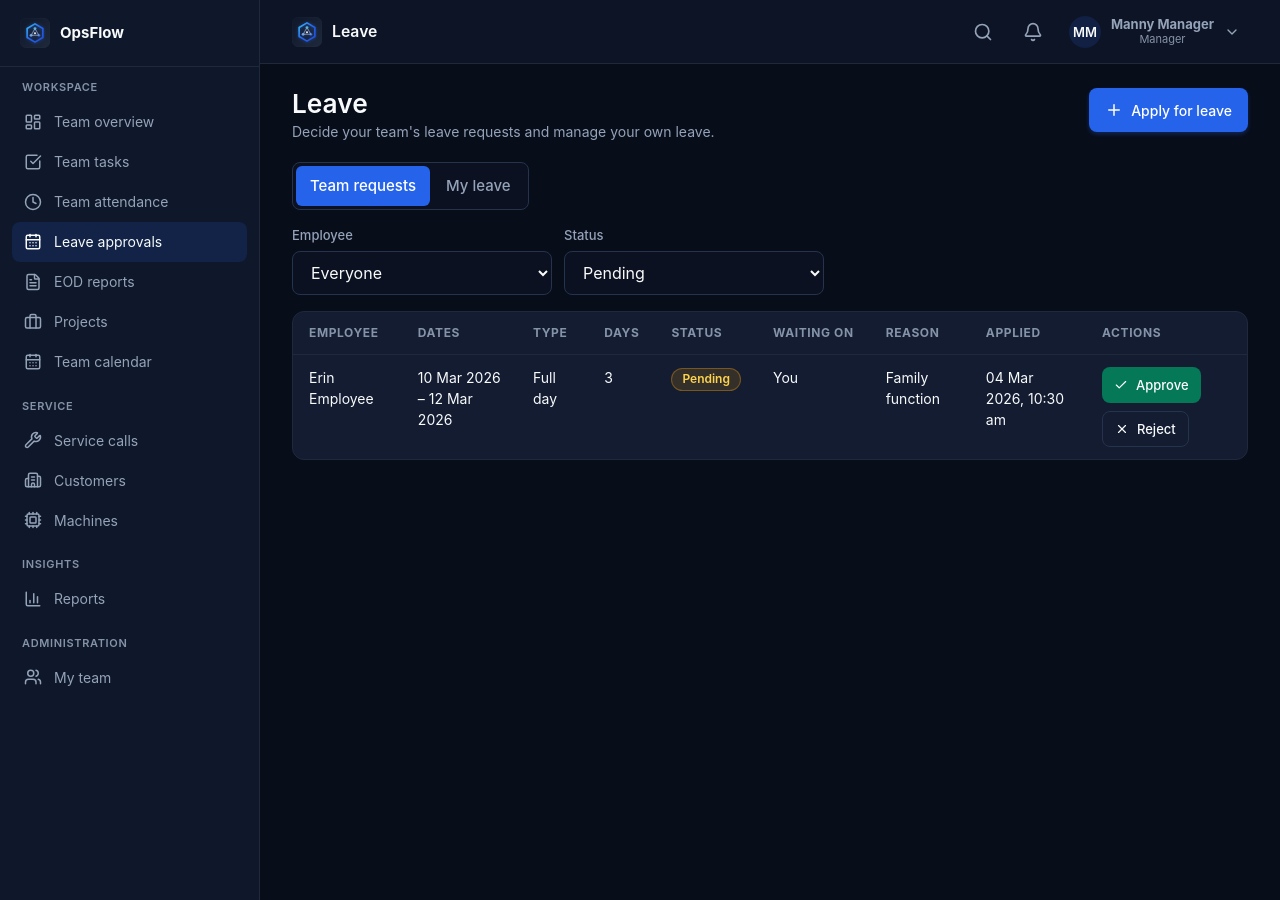
Test case: Leave for a manager › shows the server's refusal inside the dialog
Click the button with aria-label "Approve leave for Erin Employee" at (1151, 385), box x1=1102 y1=367 x2=1200 y2=403
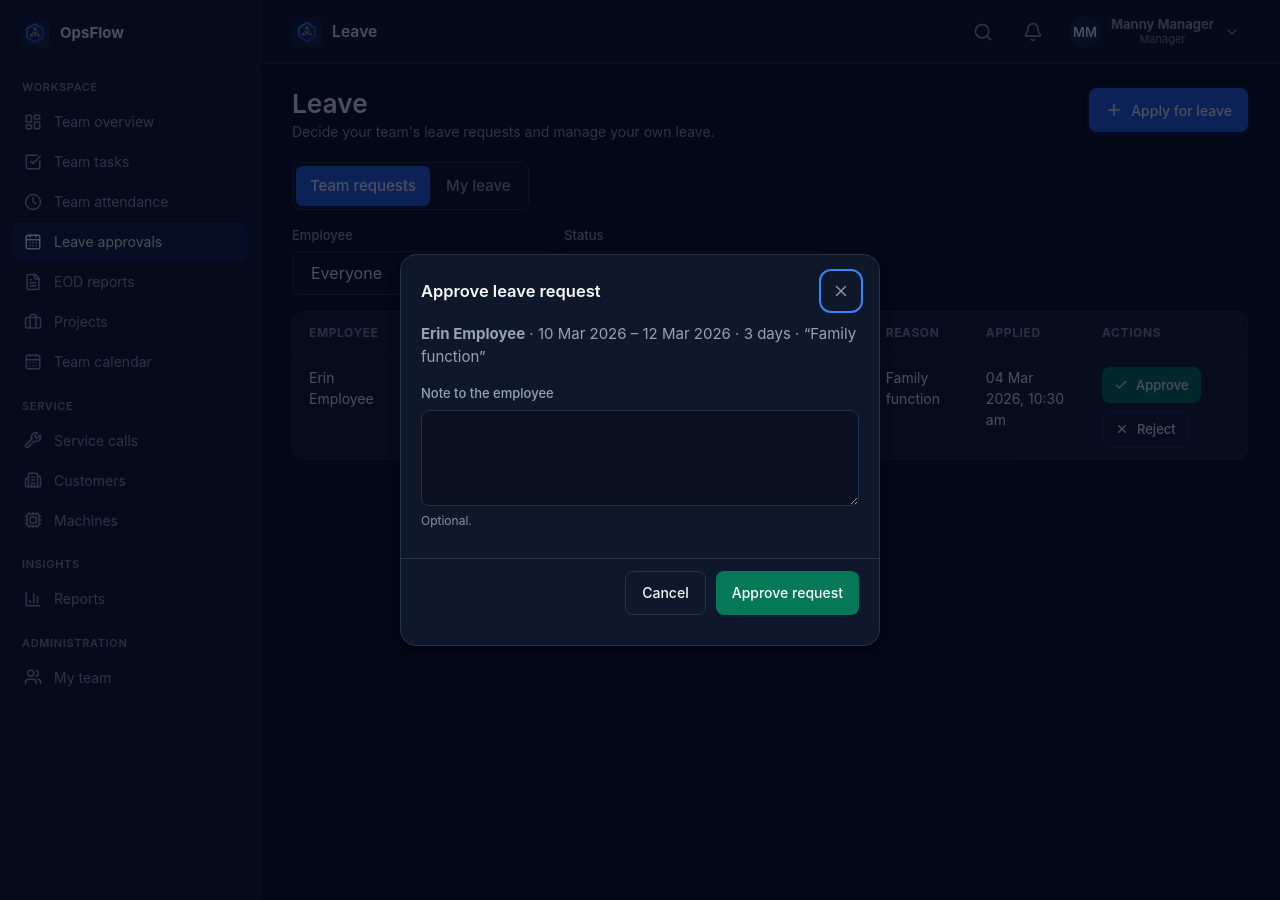
Click the button "Approve request" at (787, 593), box x1=716 y1=571 x2=859 y2=615
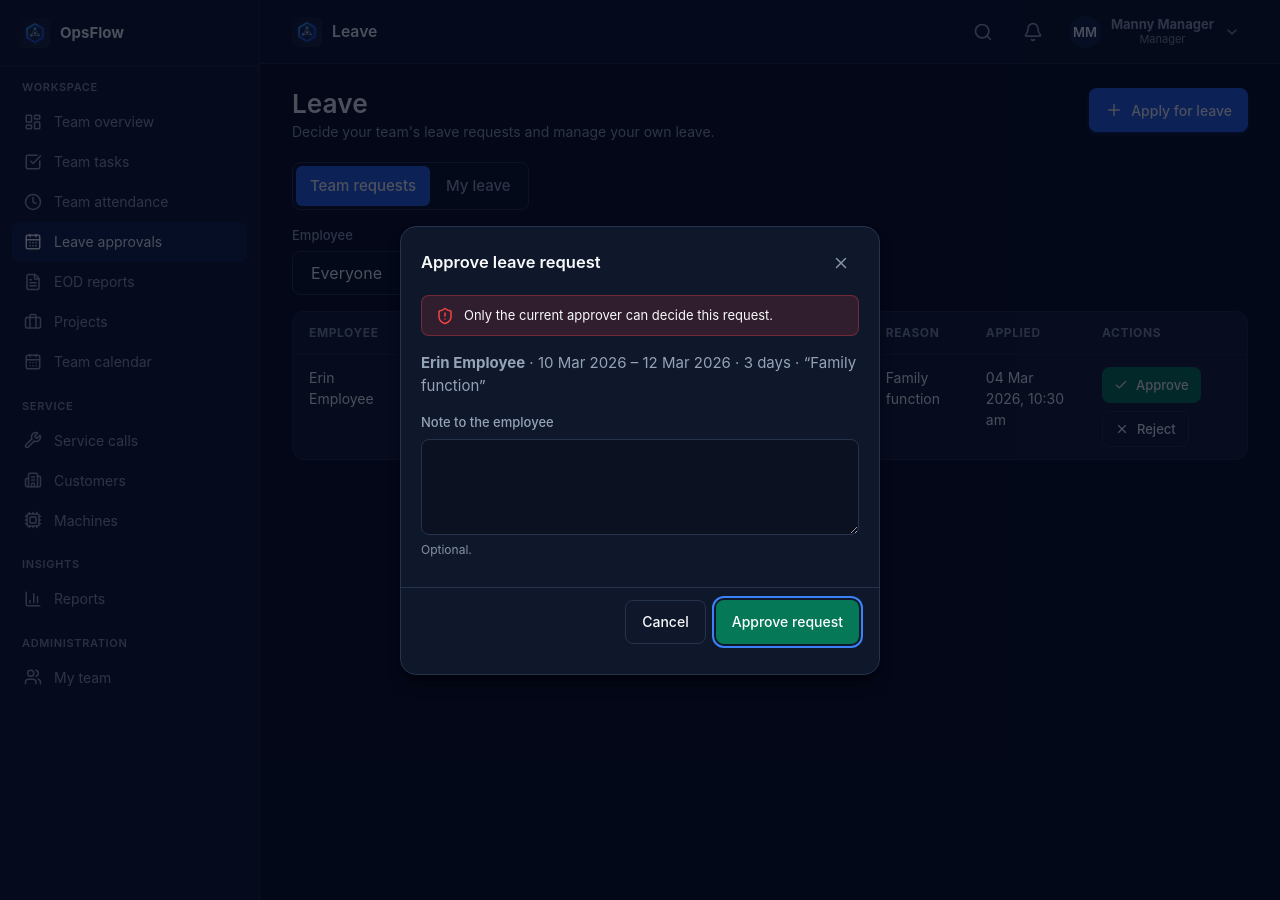
Expected: the text "Only the current approver can decide this request." is shown, x1=464 y1=306 x2=773 y2=325
